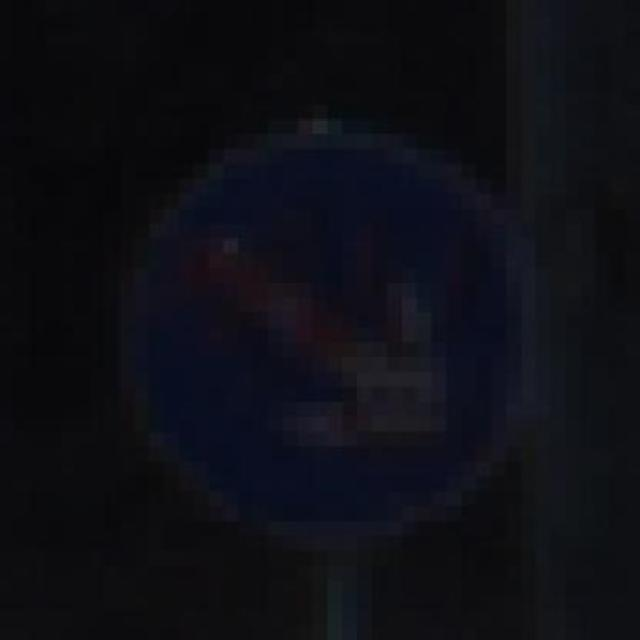Keep-Right: (104, 90, 565, 536)
